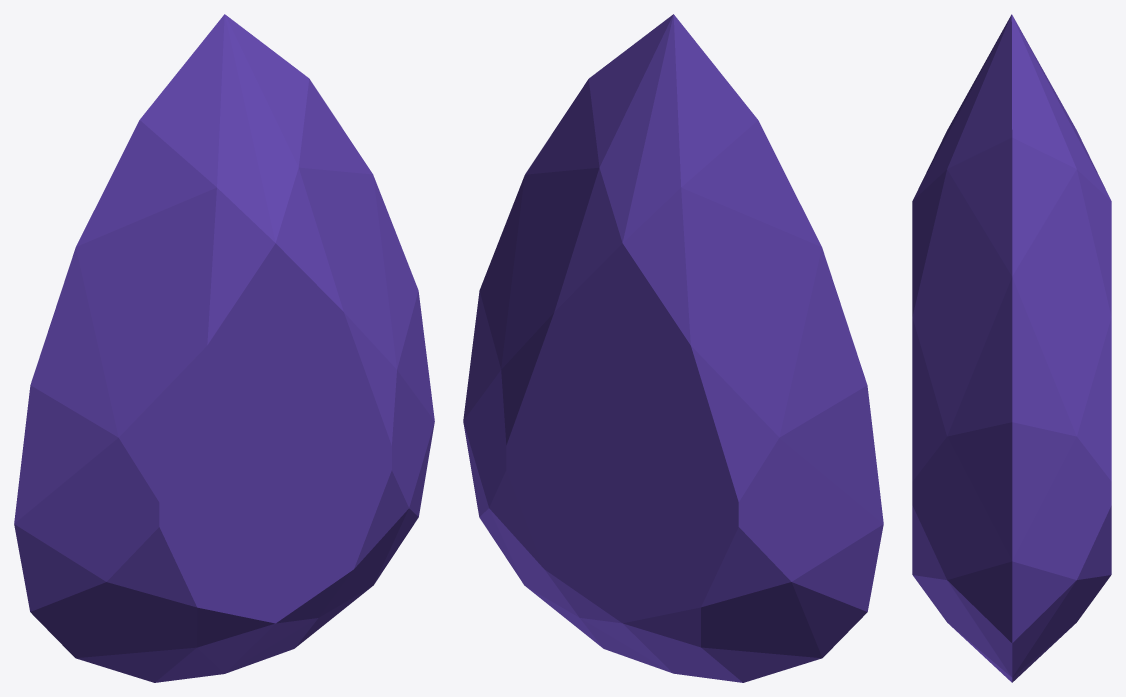
File: Gem_16.fbx
3 views of the same model, side by side, from view 1: azimuth 30°, elevation 25°; view 2: azimuth 150°, elevation 25°; view 3: azimuth 270°, elevation 25° (orthographic). The views are drawn at different scales.
Visible parts, largest first — view 1: Gem_16; view 2: Gem_16; view 3: Gem_16.
Boxes of the visible parts, x1,y1,x2,y2 form: Gem_16: [14, 14, 434, 682]; Gem_16: [463, 14, 883, 682]; Gem_16: [912, 14, 1111, 682].
Size of the model in its own units: 58.07 by 87.05 by 24.4.
